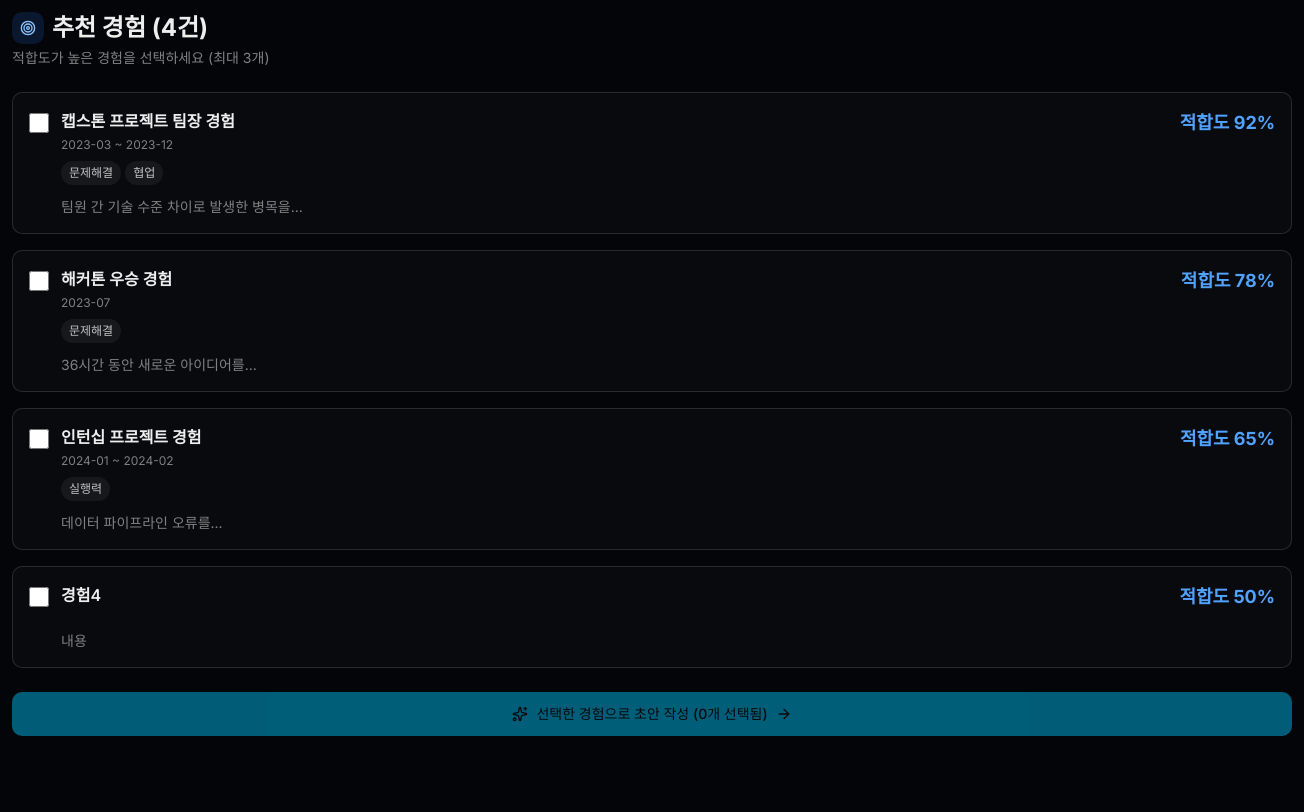
ExperienceRecommend › limits selection to maximum 3 experiences
Select first 3
Click the checkbox next to "캡스톤 프로젝트 팀장 경험": (39,123) top-left (29, 113), bottom-right (49, 133)
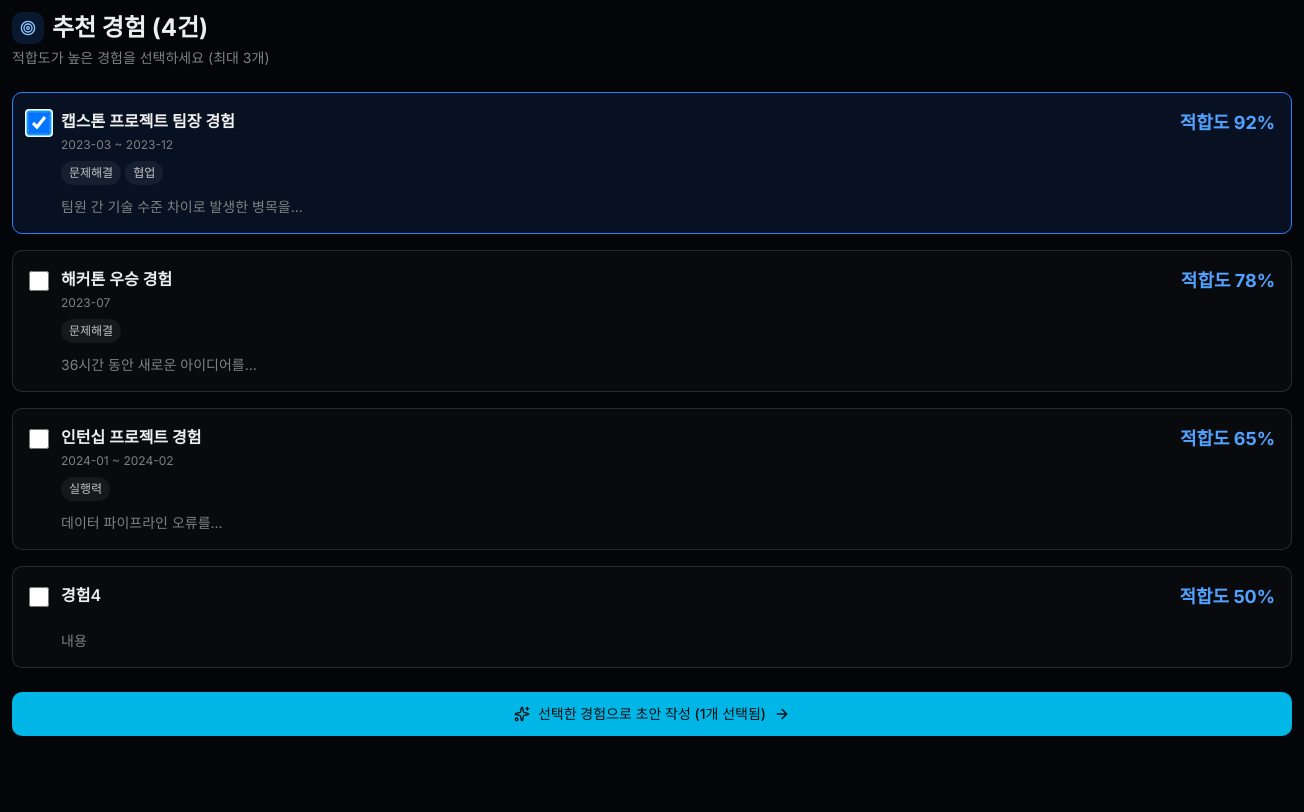
Click the checkbox next to "해커톤 우승 경험": (39,281) top-left (29, 271), bottom-right (49, 291)
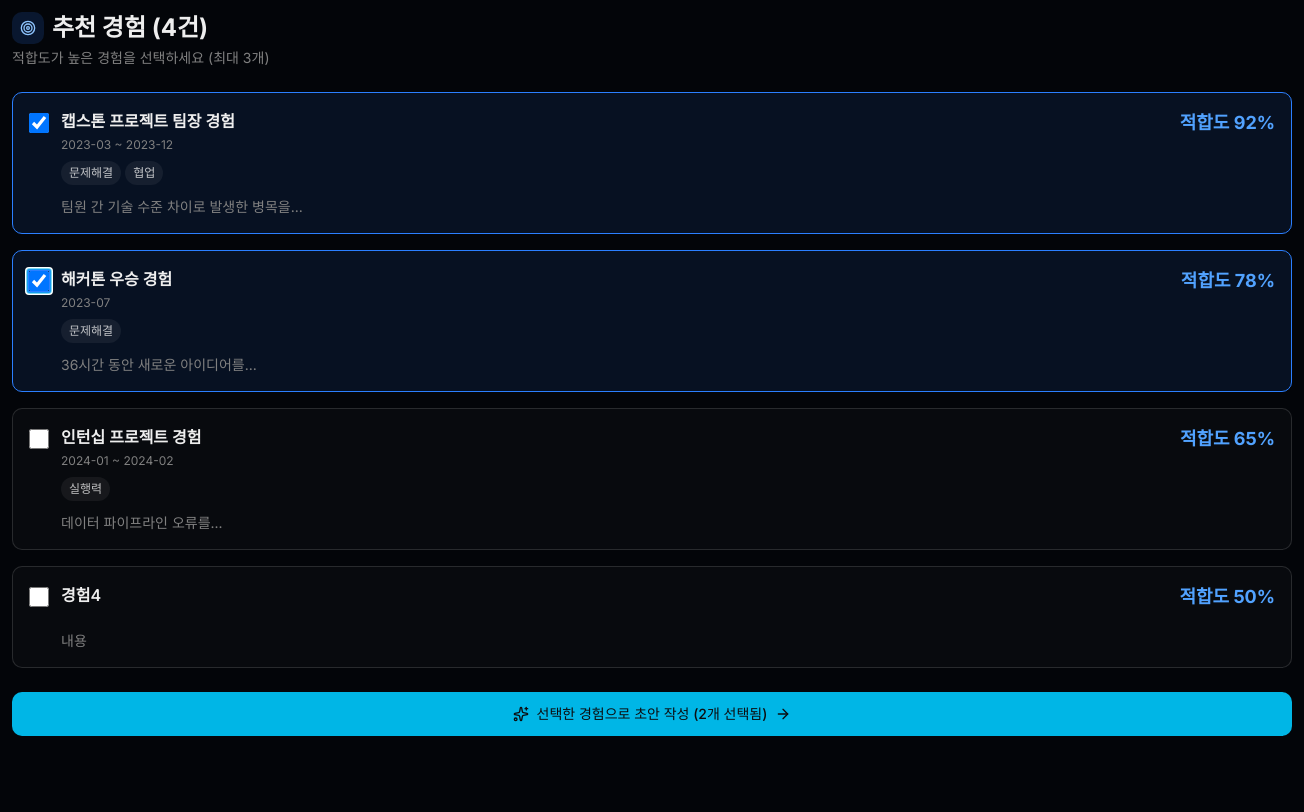
Click the checkbox next to "인턴십 프로젝트 경험": (39,439) top-left (29, 429), bottom-right (49, 449)
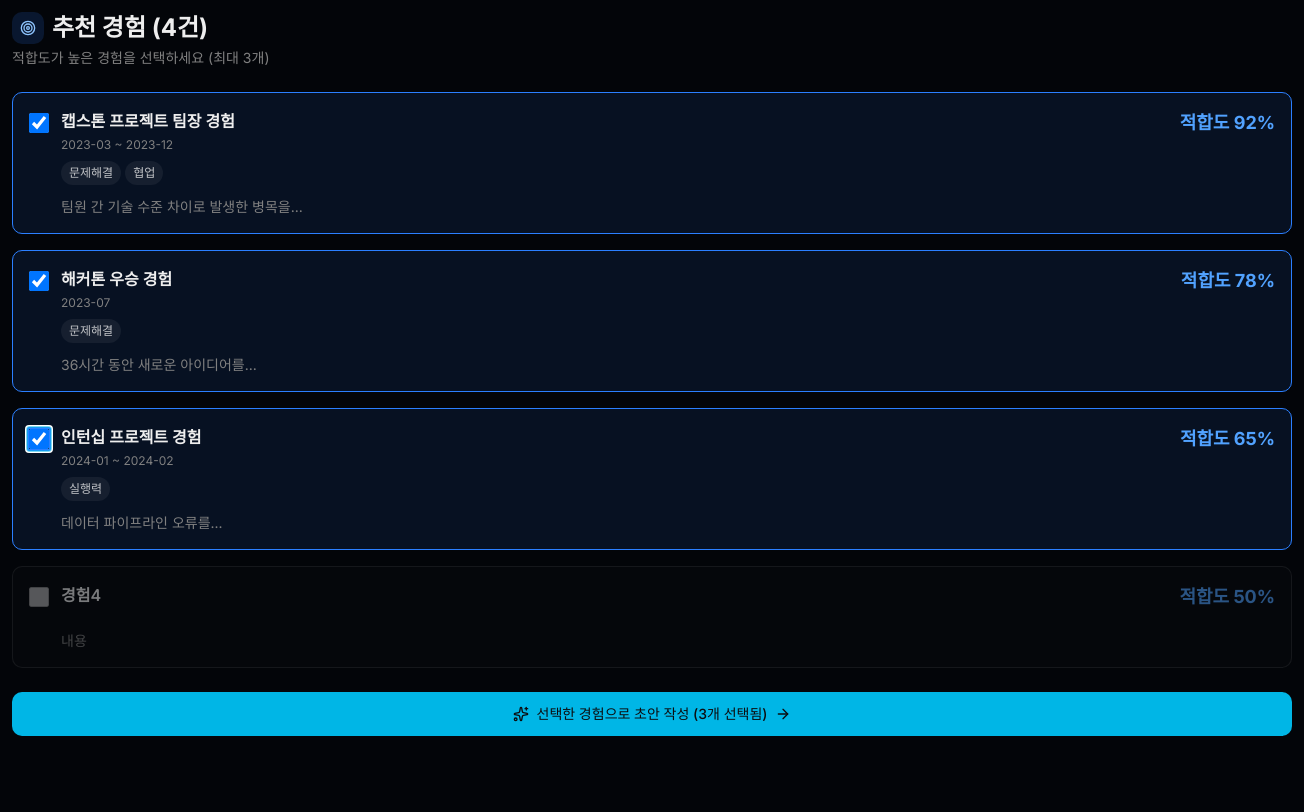
Now the checkbox next to "경험4" is disabled, box top-left (29, 587), bottom-right (49, 607)
